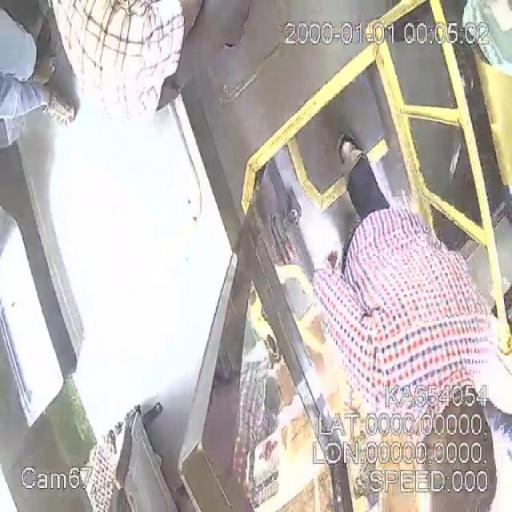persona: (269, 131, 510, 511)
